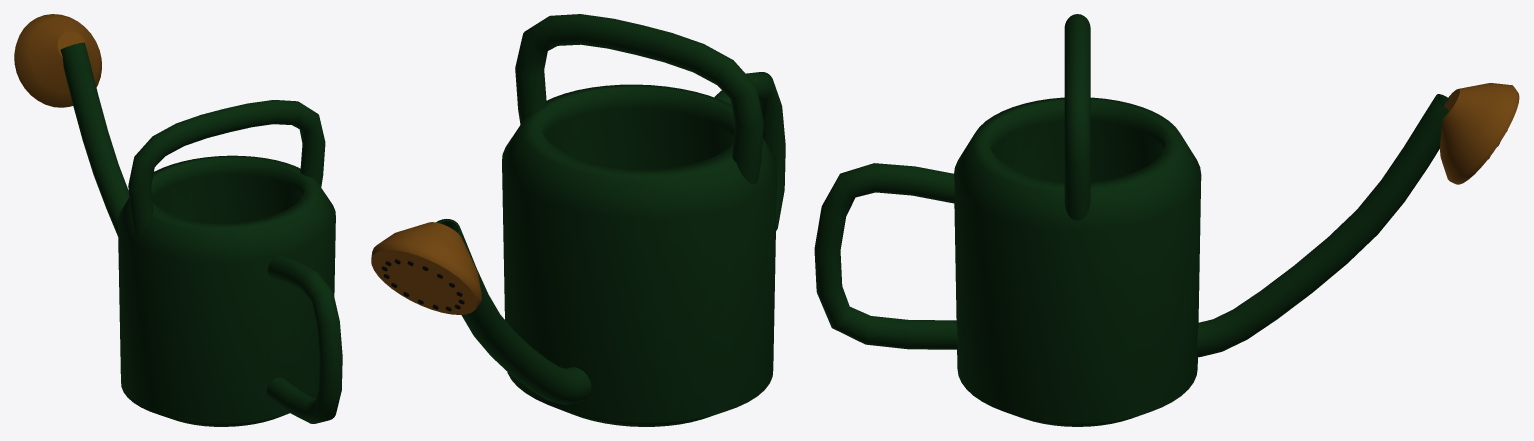
Rendered from WateringCan.gltf.
The picture shows the model from 3 angles, left to right: view 1: azimuth 30°, elevation 25°; view 2: azimuth 150°, elevation 25°; view 3: azimuth 270°, elevation 25°; orthographic projection. The views are drawn at different scales.
Parts seen in each view (by area): view 1: WateringCan__Body; view 2: WateringCan__Body; view 3: WateringCan__Body.
Boxes of the visible parts, x1=… form: WateringCan__Body: x1=14, y1=14, x2=342, y2=426; WateringCan__Body: x1=371, y1=14, x2=785, y2=426; WateringCan__Body: x1=814, y1=14, x2=1519, y2=426.
Size of the model in its own units: 0.2072 by 0.2912 by 0.5427.
Materials: 1 (1 with a texture image).
